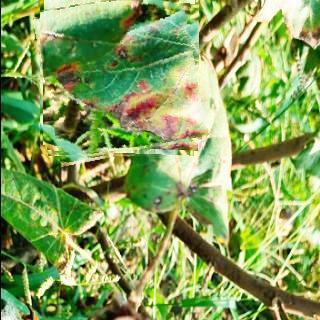blight: (39, 0, 203, 160)
